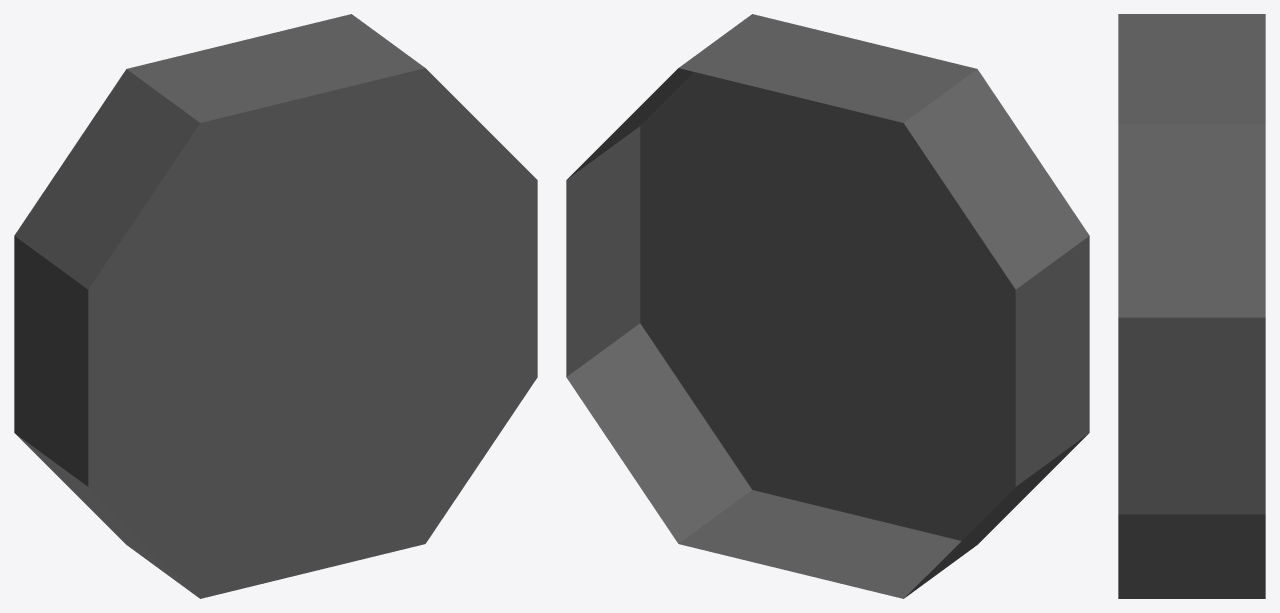
Rendered from Wheel.gltf.
The picture shows the model from 3 angles, left to right: view 1: azimuth 30°, elevation 25°; view 2: azimuth 150°, elevation 25°; view 3: azimuth 270°, elevation 25°; orthographic projection.
Parts seen in each view (by area): view 1: Wheel; view 2: Wheel; view 3: Wheel.
Boxes of the visible parts, box(x1,y1,x2,y2) form: Wheel: box(14, 14, 537, 598); Wheel: box(566, 14, 1089, 598); Wheel: box(1118, 14, 1265, 598).
Bounding box in the file's own units: 0.0122 × 0.0123 × 0.00347.
Materials: 1 (1 with a texture image).
